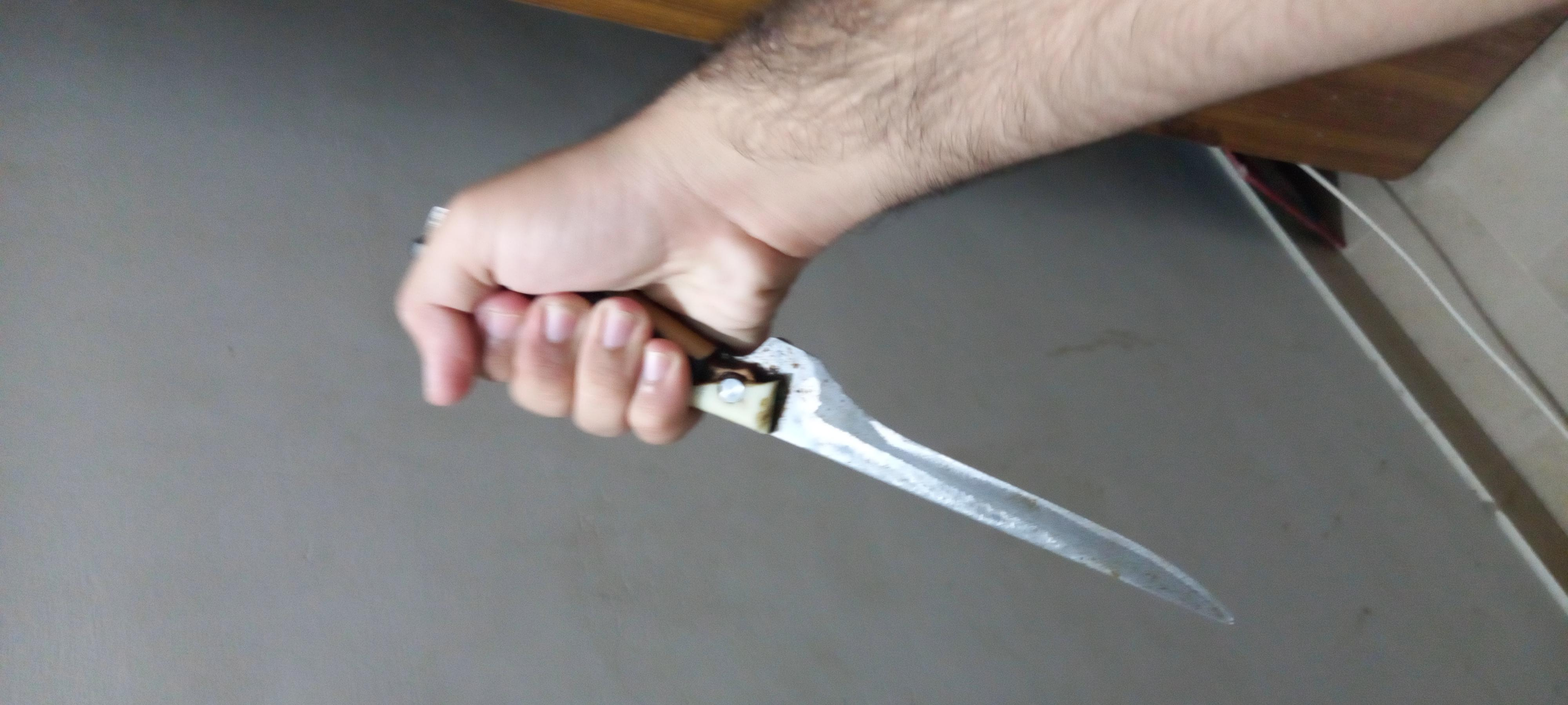knives: (126, 170, 1085, 565)
